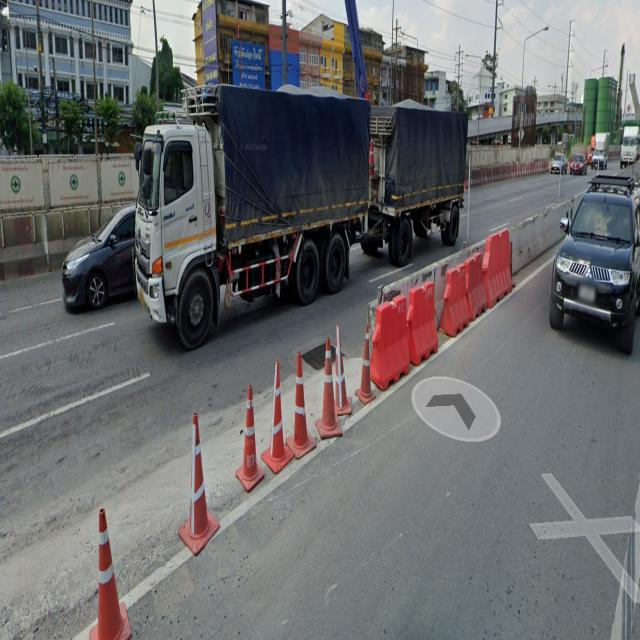fallen_object: (333, 272, 452, 385), (61, 464, 137, 640), (162, 399, 219, 574), (422, 237, 520, 329), (327, 307, 381, 416), (282, 346, 326, 470), (500, 195, 577, 264), (303, 335, 350, 446), (260, 359, 296, 489), (37, 200, 104, 260), (7, 206, 53, 280), (243, 373, 265, 501)
